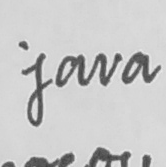a: (53, 50, 87, 89), (121, 50, 150, 86)
j: (20, 51, 51, 129)
v: (94, 50, 120, 87)
